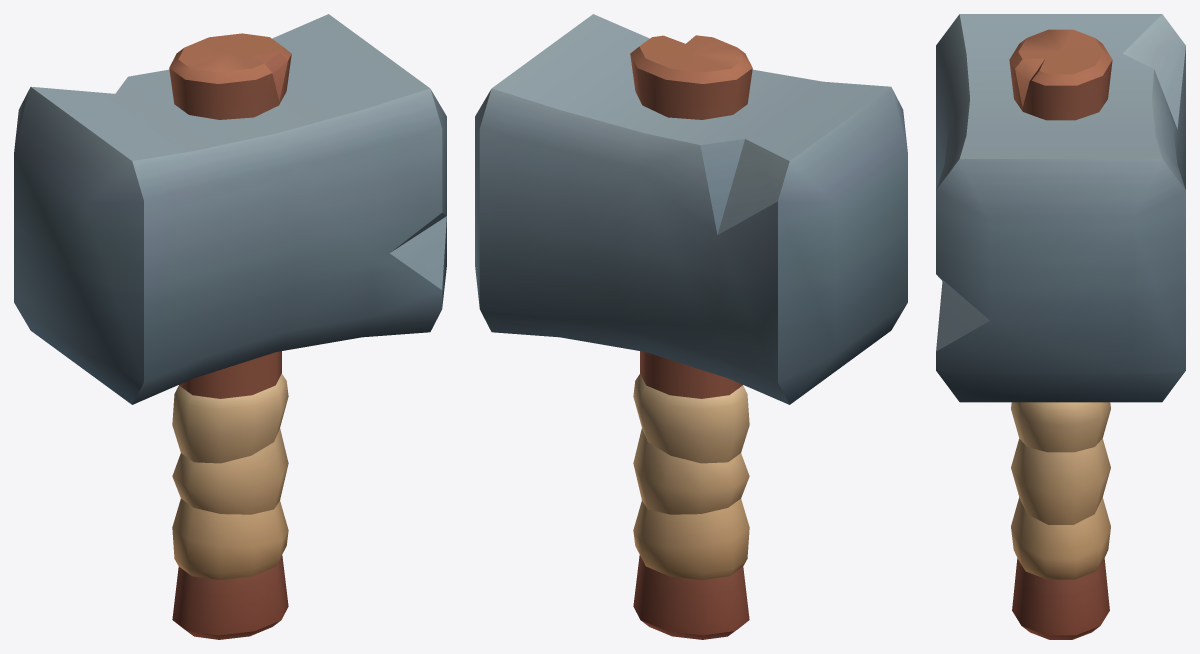
The model's file is hammare.glb.
The picture shows the model from 3 angles, left to right: view 1: azimuth 30°, elevation 25°; view 2: azimuth 150°, elevation 25°; view 3: azimuth 270°, elevation 25°; orthographic projection.
Visible parts, largest first — view 1: hammer; view 2: hammer; view 3: hammer.
Part boxes in pixels (box(x1,y1,x2,y2)): hammer: box(14, 14, 446, 639); hammer: box(475, 14, 907, 639); hammer: box(936, 14, 1185, 639).
Bounding box in the file's own units: 0.5434 × 0.8234 × 0.3261.
1 material, 1 textured.
